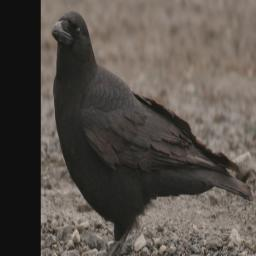Crow: (51, 8, 254, 256)
